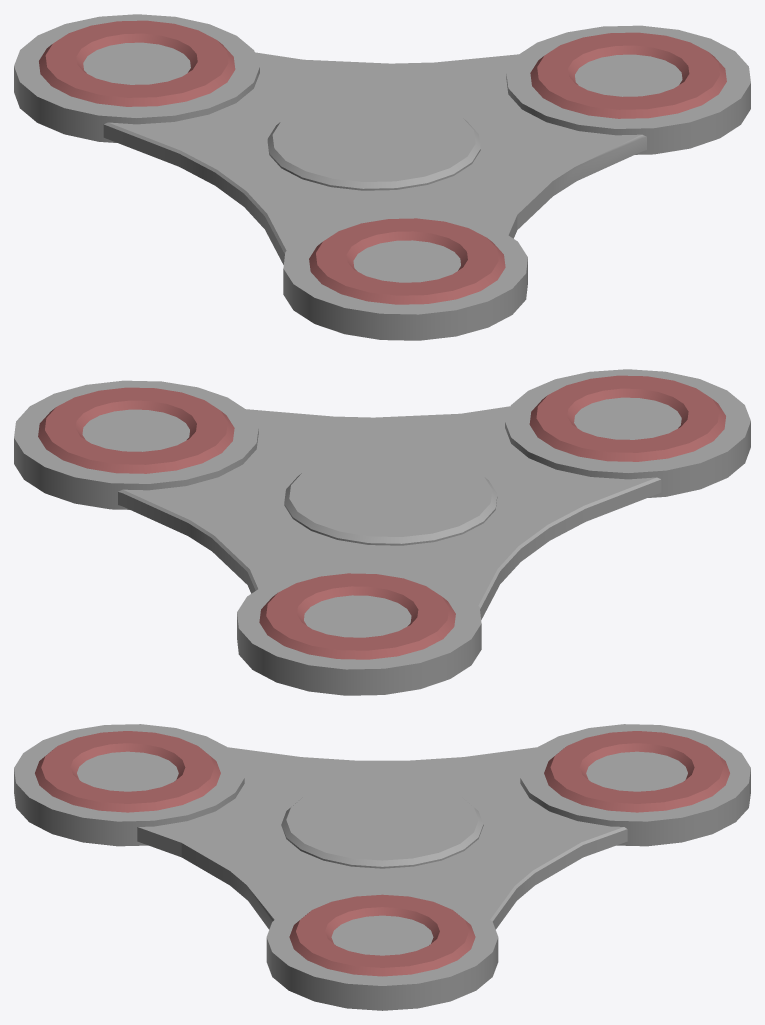
The model's file is figet spinner.fbx.
3 renders of one model, top to bottom at view 1: azimuth 30°, elevation 25°; view 2: azimuth 150°, elevation 25°; view 3: azimuth 270°, elevation 25°, orthographic. The views are drawn at different scales.
Parts seen in each view (by area): view 1: polySurface4; view 2: polySurface4; view 3: polySurface4.
Part boxes in pixels (<box>): polySurface4: <box>14,14,750,340</box>; polySurface4: <box>14,369,750,695</box>; polySurface4: <box>14,724,750,1010</box>.
Bounding box in the file's own units: 1382 × 77.9 × 1643.
